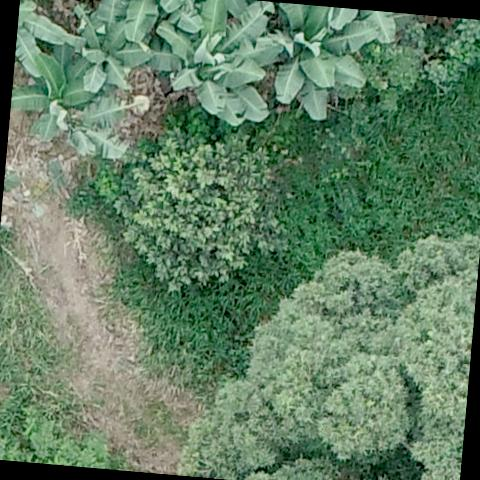Banana-plant: (143, 0, 287, 131), (241, 0, 381, 132), (8, 39, 101, 151), (56, 0, 155, 98), (61, 86, 149, 162)
